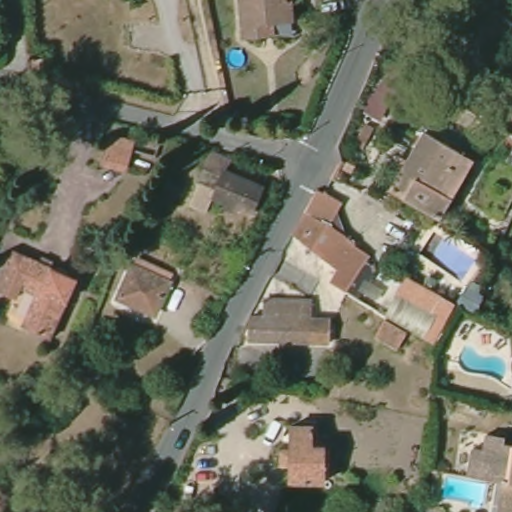pool: (419, 227, 483, 289), (433, 470, 495, 507), (455, 341, 508, 384), (223, 42, 252, 74)
